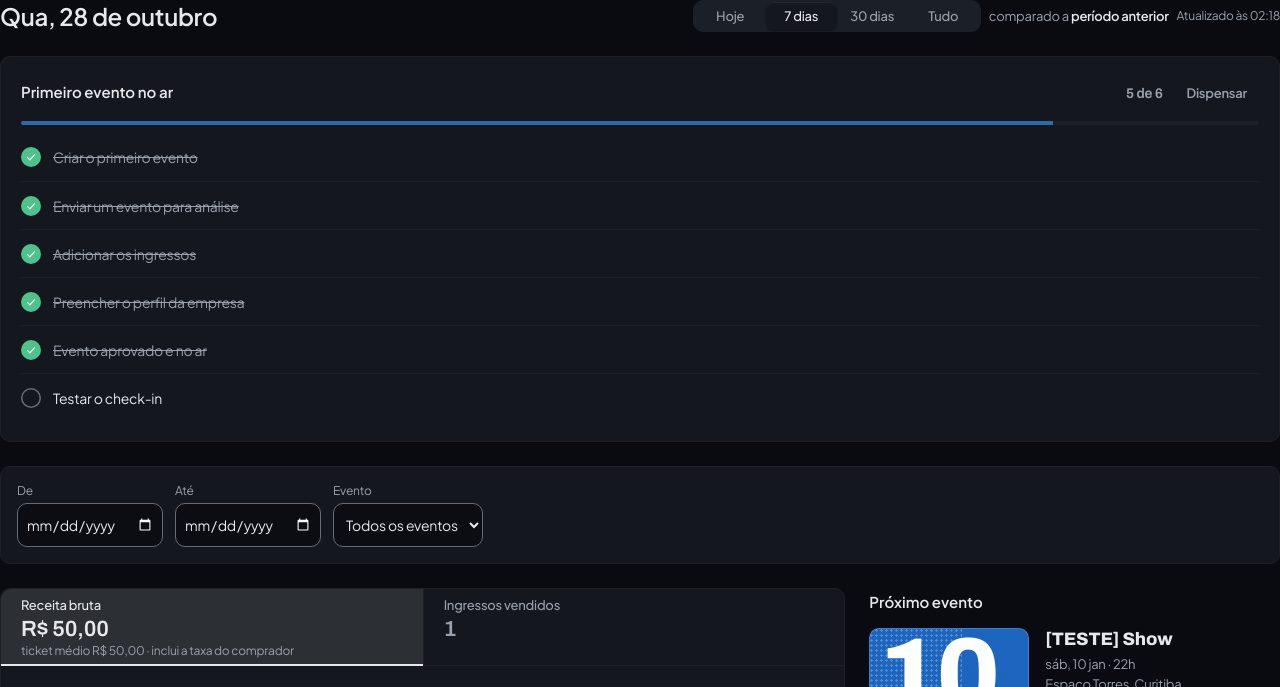
Início do produtor › a aba Ingressos vendidos troca o gráfico
Press the mouse on the tab "Ingressos vendidos 1" at (502, 605), box [423,589,844,665]
(page scrolled)
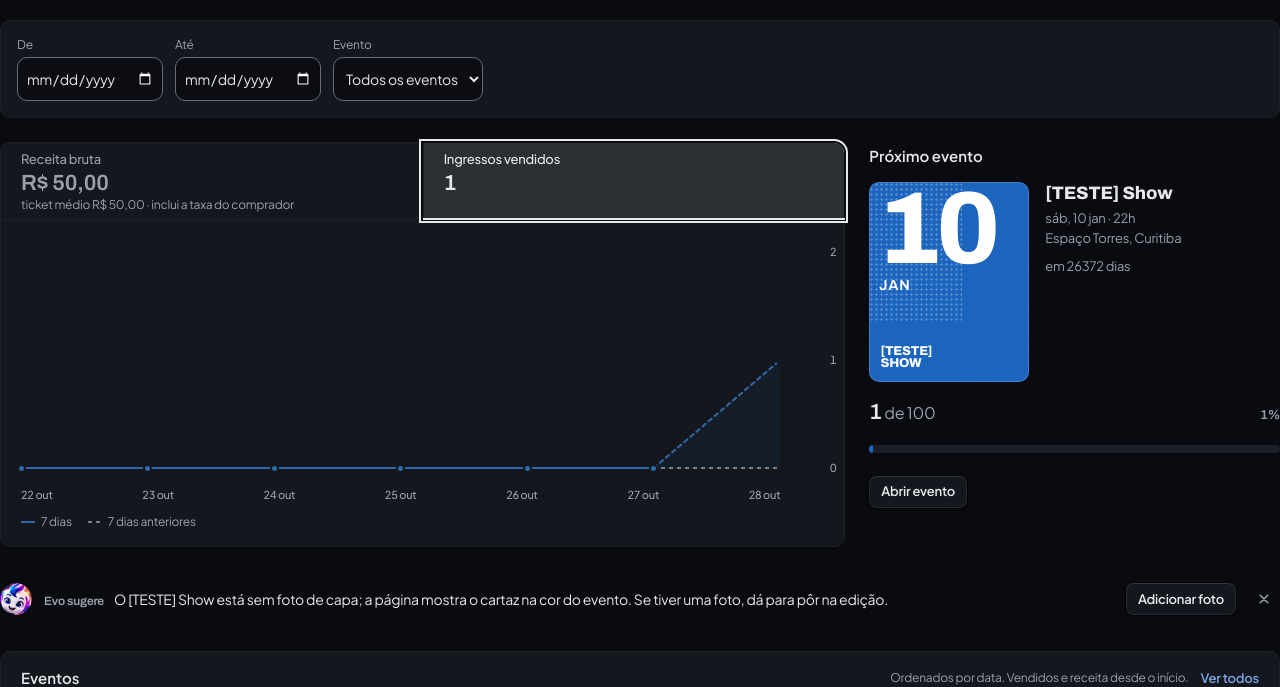
Check: the picture named "Ingressos vendidos, nos últimos 7 dias: 1" is shown, box [21,240,780,480]
